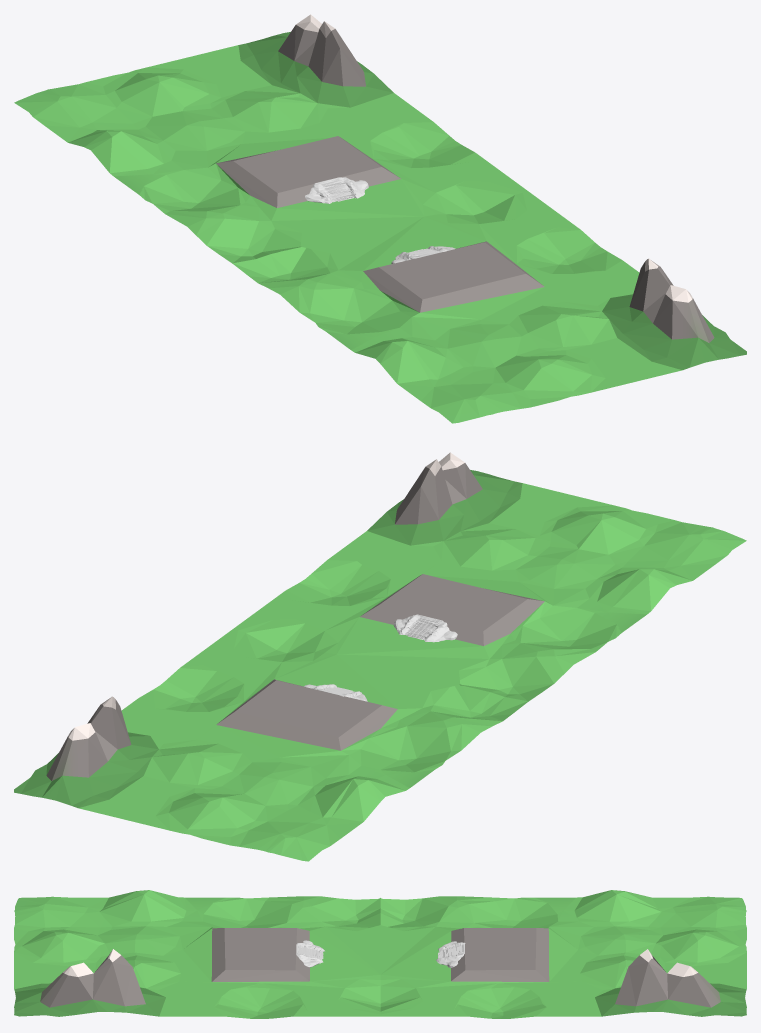
The model's file is terrainl.fbx.
3 views of the same model, one above another, from view 1: azimuth 30°, elevation 25°; view 2: azimuth 150°, elevation 25°; view 3: azimuth 270°, elevation 25° (orthographic). The views are drawn at different scales.
Visible parts, largest first — view 1: Плоскость, Cube.001; view 2: Плоскость, Cube; view 3: Плоскость, Cube, Cube.001.
Part boxes in pixels (bbox=[...]): Плоскость: bbox=[14, 14, 746, 423]; Cube.001: bbox=[305, 177, 368, 203]; Плоскость: bbox=[14, 452, 746, 861]; Cube: bbox=[393, 614, 457, 642]; Плоскость: bbox=[14, 890, 746, 1018]; Cube: bbox=[296, 940, 324, 967]; Cube.001: bbox=[436, 941, 465, 967].
Bounding box in the file's own units: 40392 × 9405 × 104052.
Materials: 3 (1 with a texture image).
